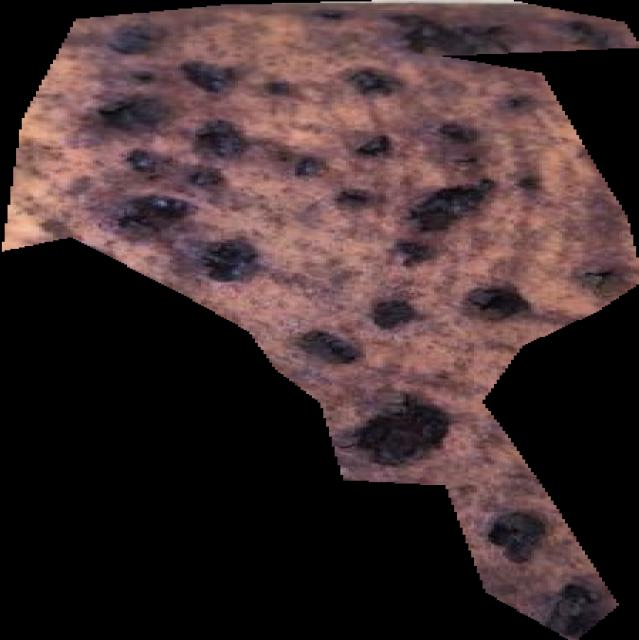Pitting Corrosion: (1, 1, 639, 640)
